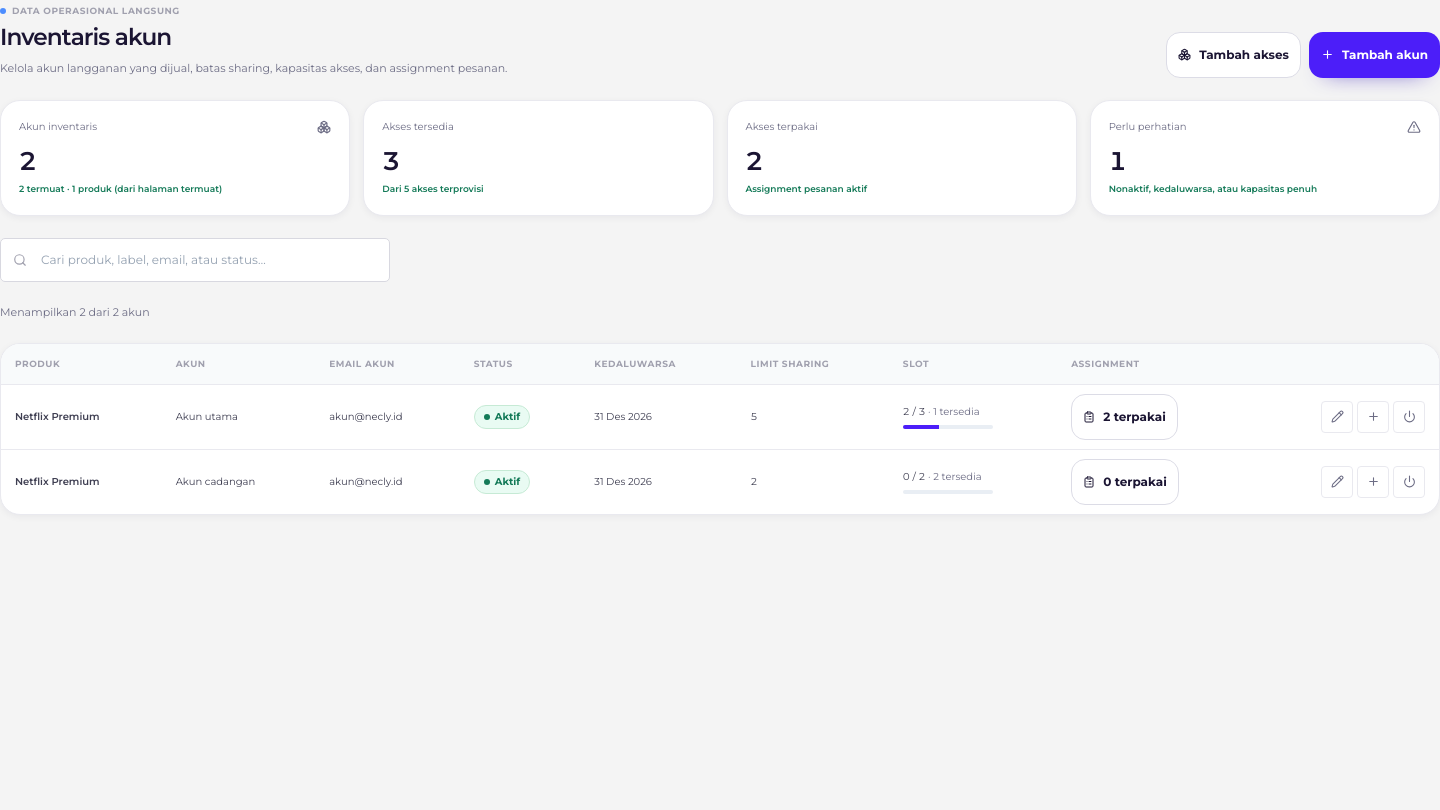
Test: Halaman Inventaris akun › menolak jumlah akses yang melebihi sisa kapasitas tanpa memanggil API
Check: the text "Akun utama" is shown, box [162,384,315,449]
Click the button named "Tambah akses ke Akun utama".
click(1373, 417)  # box [1357,401,1389,433]
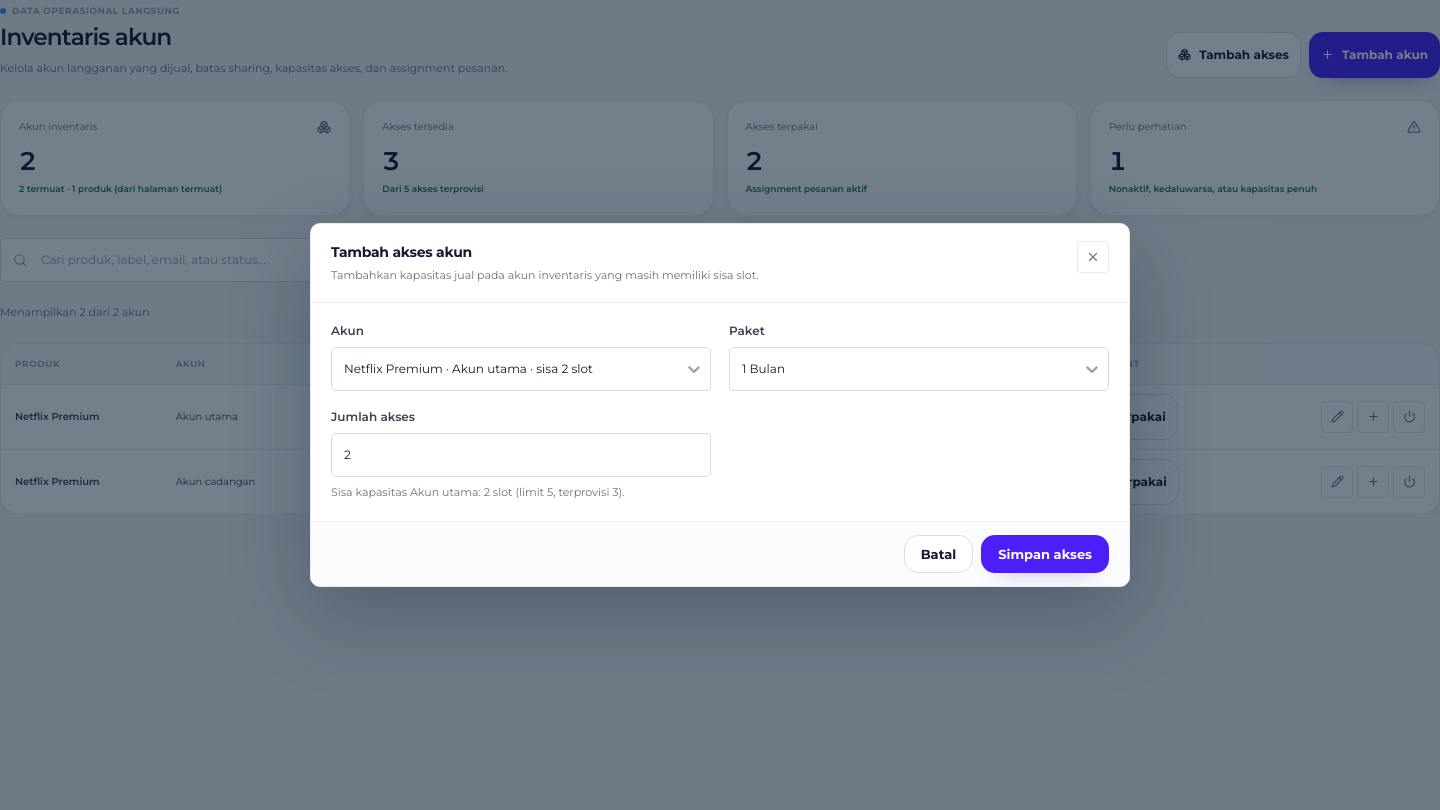
Replace the text in the number field labelled "Jumlah akses" with "3" at (521, 455), box [331,433,711,477]
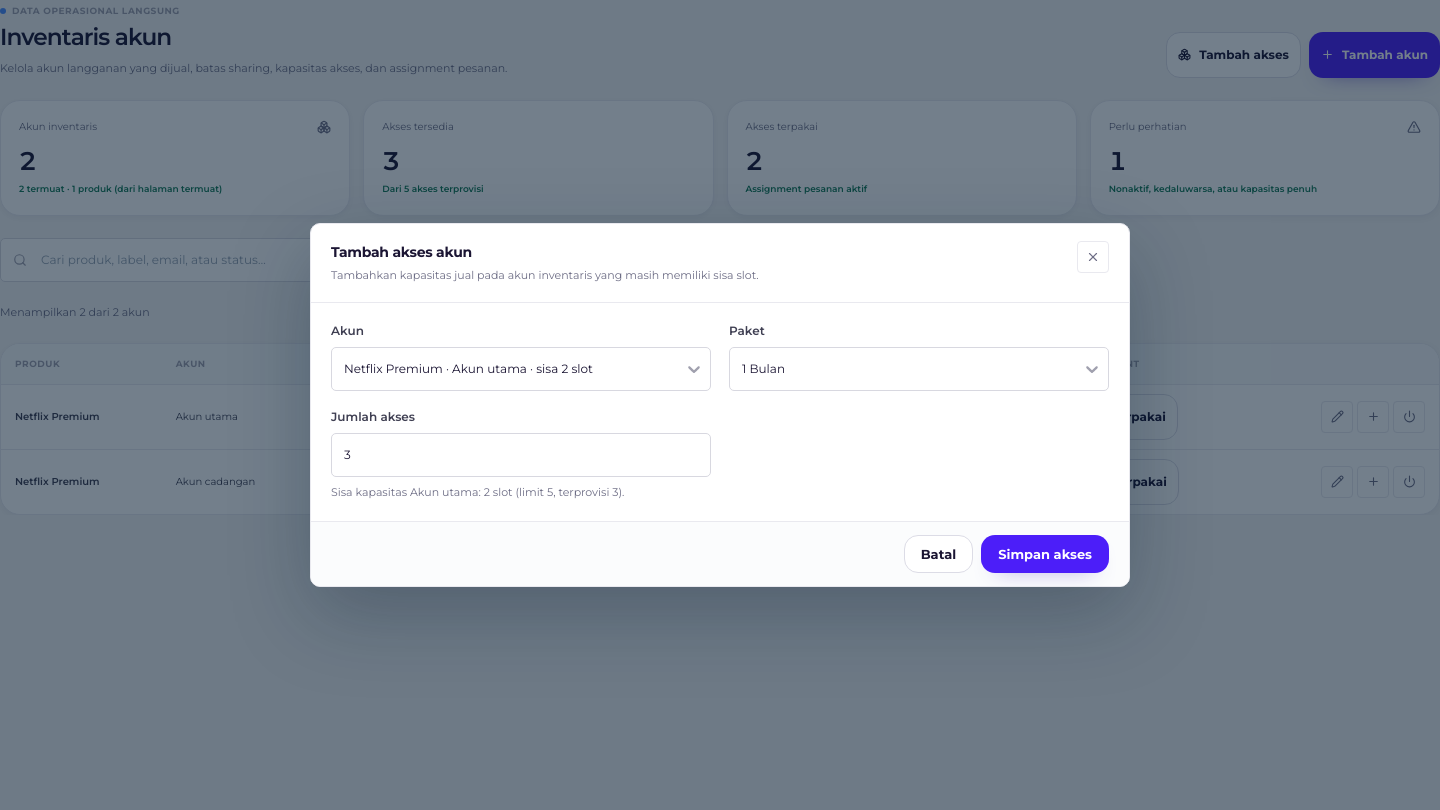
Click the button "Simpan akses".
click(1045, 554)  # box [981,536,1109,574]
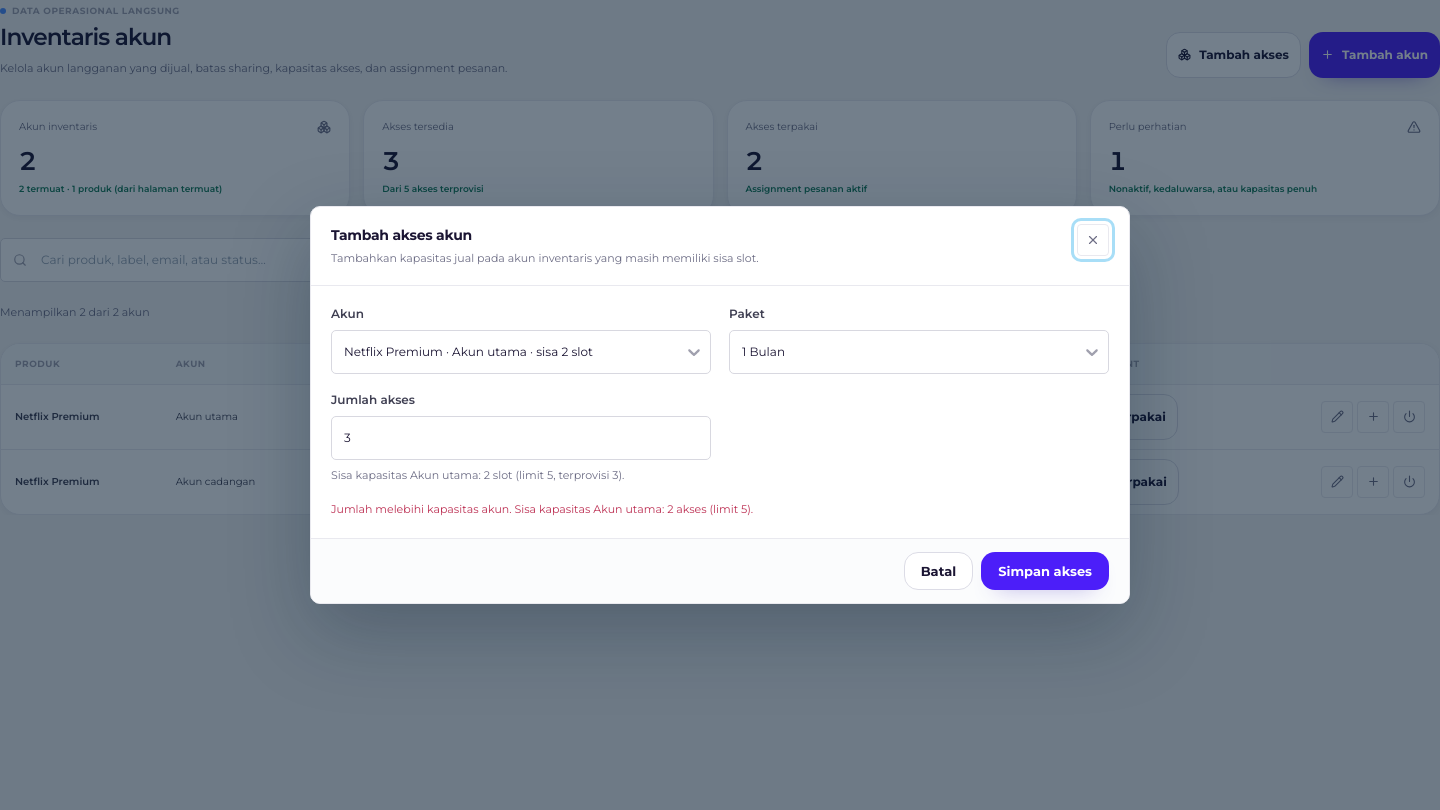
Check: the text "Jumlah melebihi kapasitas akun. Sisa kapasitas Akun utama: 2 akses (limit 5)." is shown, box [331,502,753,516]
